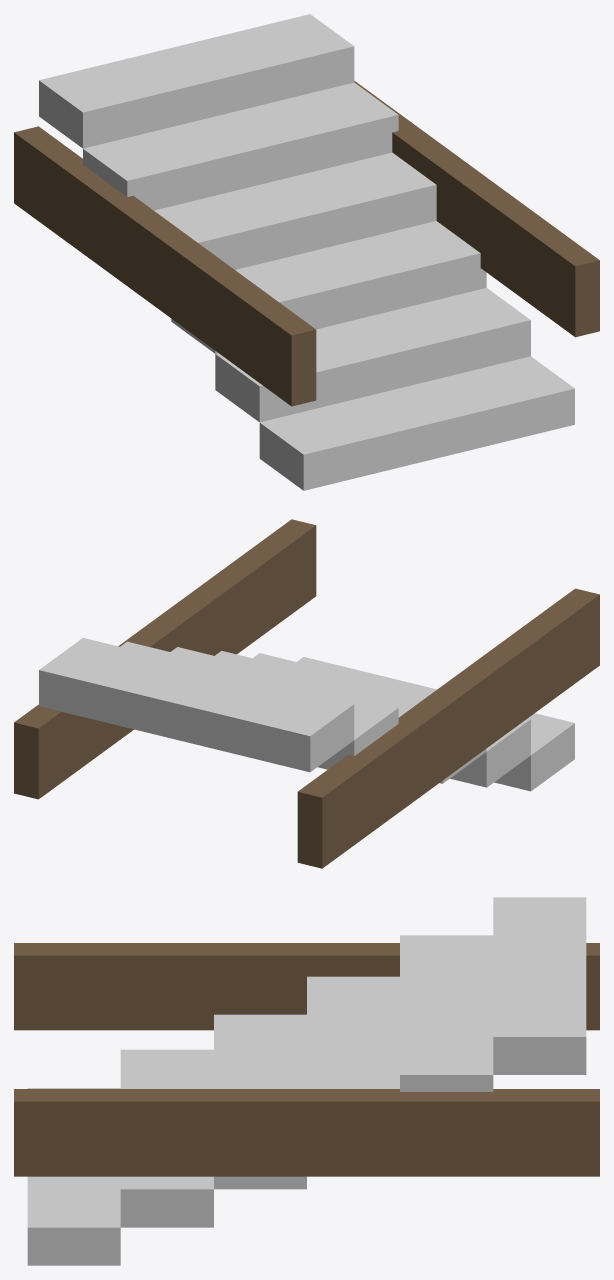
File: build_stairs_01.glb
3 renders of one model, top to bottom at view 1: azimuth 30°, elevation 25°; view 2: azimuth 150°, elevation 25°; view 3: azimuth 270°, elevation 25°, orthographic. The views are drawn at different scales.
Parts seen in each view (by area): view 1: build_stairs_01; view 2: build_stairs_01; view 3: build_stairs_01.
Boxes of the visible parts, <box> form: build_stairs_01: <box>14,14,599,490</box>; build_stairs_01: <box>14,519,599,868</box>; build_stairs_01: <box>14,897,599,1265</box>.
Bounding box in the file's own units: 2.5 × 1.68 × 3.9.
